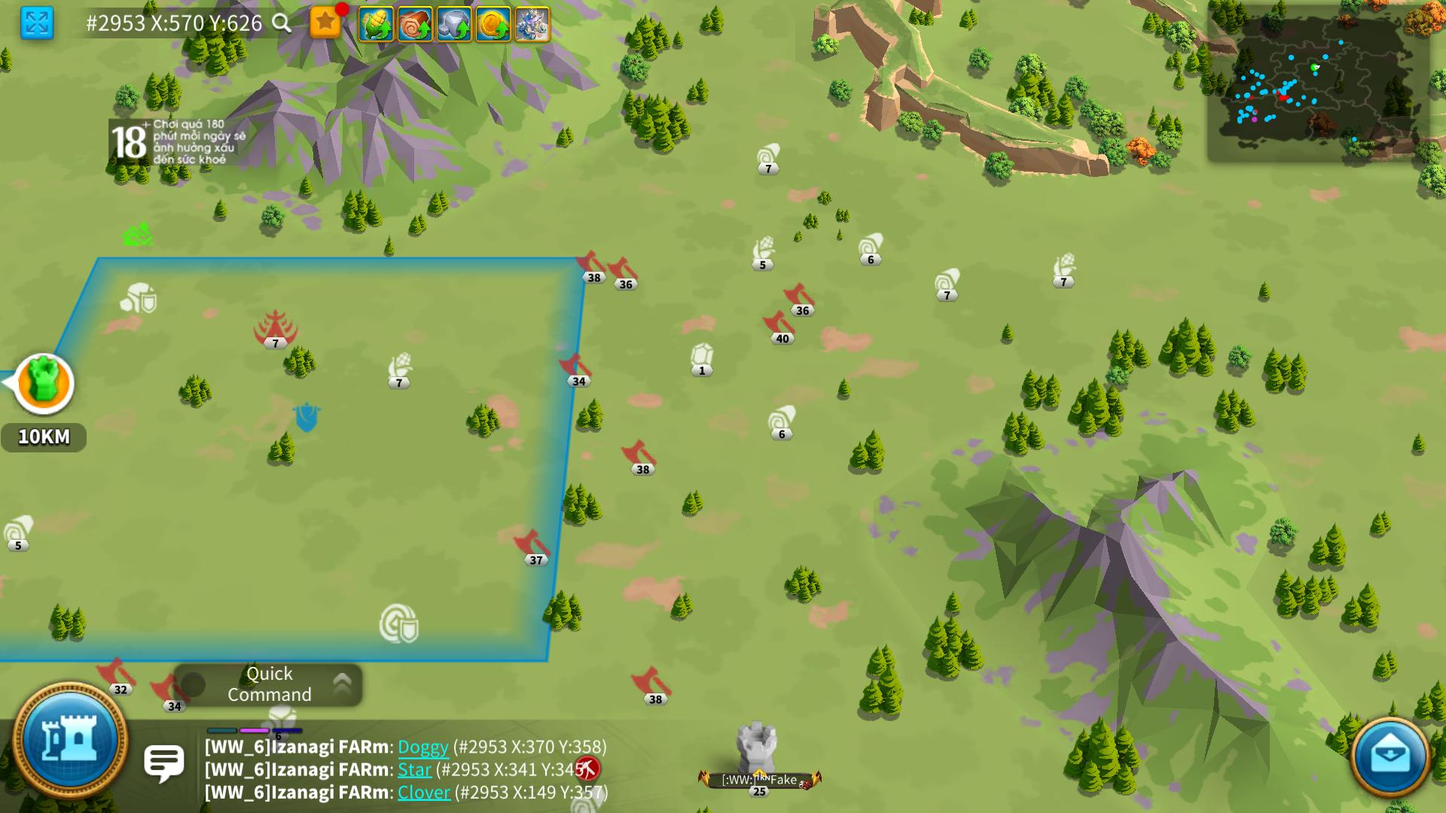gem-z-out: (690, 342, 714, 378)
